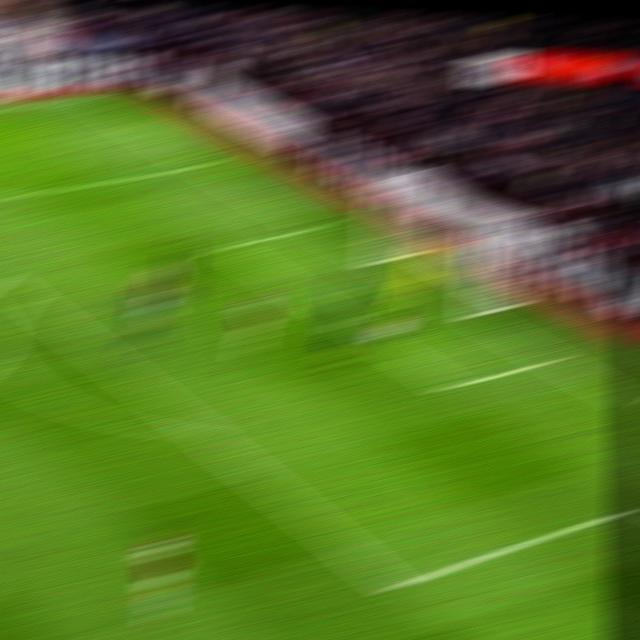bigarea_bottom_inner: (370, 565, 420, 610)
bigarea_top_outter: (185, 155, 218, 177)
bottom_arc_area_intersection: (177, 412, 221, 450)
corner: (68, 93, 102, 107)
smallarea_bottom_inner: (433, 375, 470, 399)
smallarea_bottom_outter: (533, 345, 569, 376)
smallarea_top_inner: (208, 232, 242, 264)
smallarea_top_outter: (296, 214, 332, 244)
top_arc_area_intersection: (5, 283, 46, 320)
